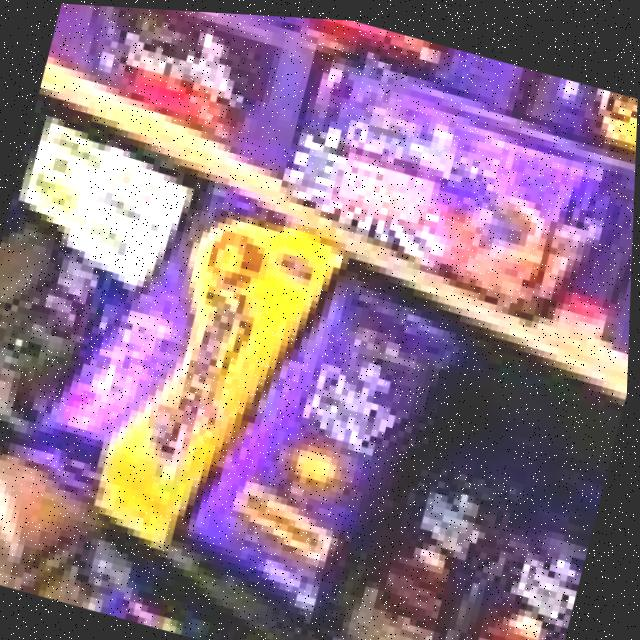cadbury: (0, 145, 334, 554), (265, 43, 637, 318), (213, 261, 468, 640)
